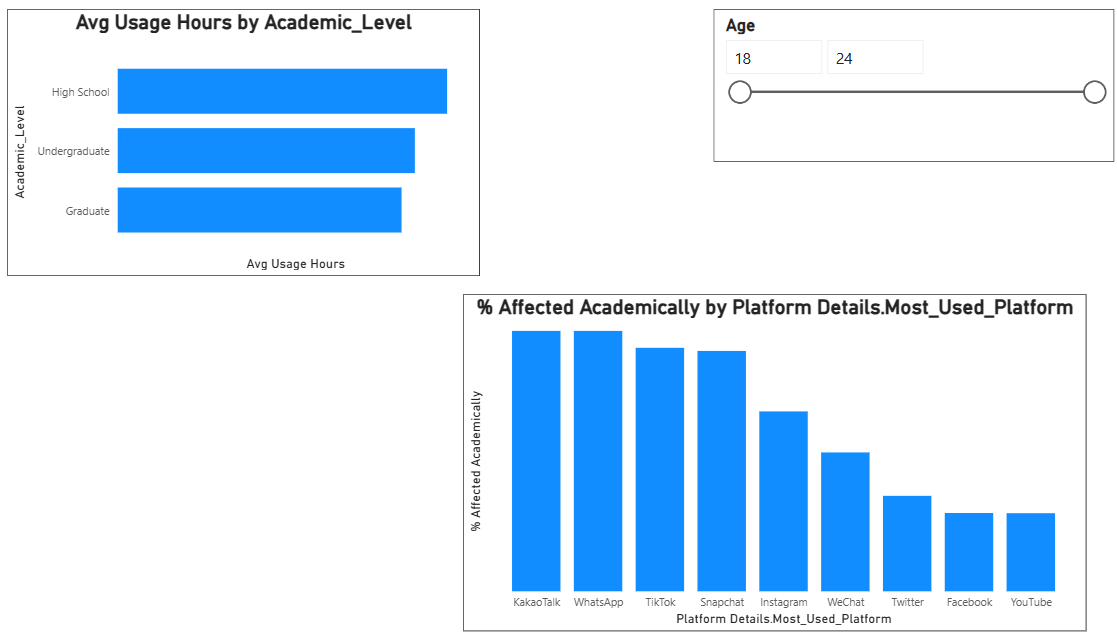

This screenshot's page, from the dashboard's own definition file:
{"tool":"powerbi","page":{"name":"Page 3","canvas":[1280,720],"ordinal":2},"visuals":[{"type":"barChart","fields":{"Category":["Student Details.Academic_Level"],"Y":["Student Details.Avg Usage Hours"]},"box":[33.1,16.6,525.1,296.5],"z":0},{"type":"columnChart","fields":{"Y":["Student Details.% Affected Academically"],"Category":["Student Details.Platform Details.Most_Used_Platform"]},"box":[540,333,692.4,374.4],"z":1000},{"type":"slicer","fields":{"Values":["Student Details.Age"]},"box":[687.4,62.9,443.9,170.6],"z":1001}]}

Visuals, with their boxes in screenshot pixels (x1, y1, x2, y2), scaled from the page's 1280x720 canvas onto the 1117x637 screenshot:
barChart - Student Details.Academic_Level x Student Details.Avg Usage Hours: 29/15/487/277
columnChart - Student Details.% Affected Academically x Student Details.Platform Details.Most_Used_Platform: 471/295/1075/626
slicer - Student Details.Age: 600/56/987/207
